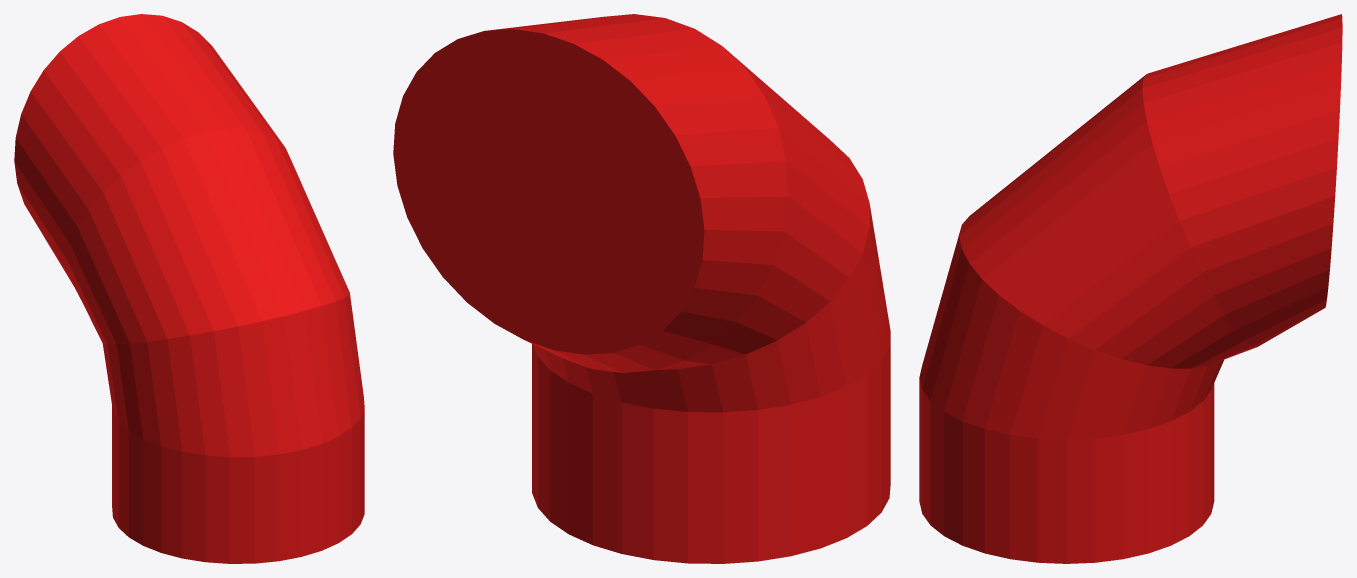
File: Pipe corner.fbx
The picture shows the model from 3 angles, left to right: view 1: azimuth 30°, elevation 25°; view 2: azimuth 150°, elevation 25°; view 3: azimuth 270°, elevation 25°; orthographic projection. The views are drawn at different scales.
Visible parts, largest first — view 1: Pipe straight.002; view 2: Pipe straight.002; view 3: Pipe straight.002.
Part boxes in pixels (left/top/right/bottom): Pipe straight.002: left=14, top=14, right=364, bottom=563; Pipe straight.002: left=393, top=14, right=890, bottom=563; Pipe straight.002: left=919, top=14, right=1342, bottom=563.
Size of the model in its own units: 18.59 by 32.99 by 26.69.
